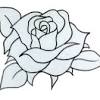rose: (1, 1, 100, 100)
